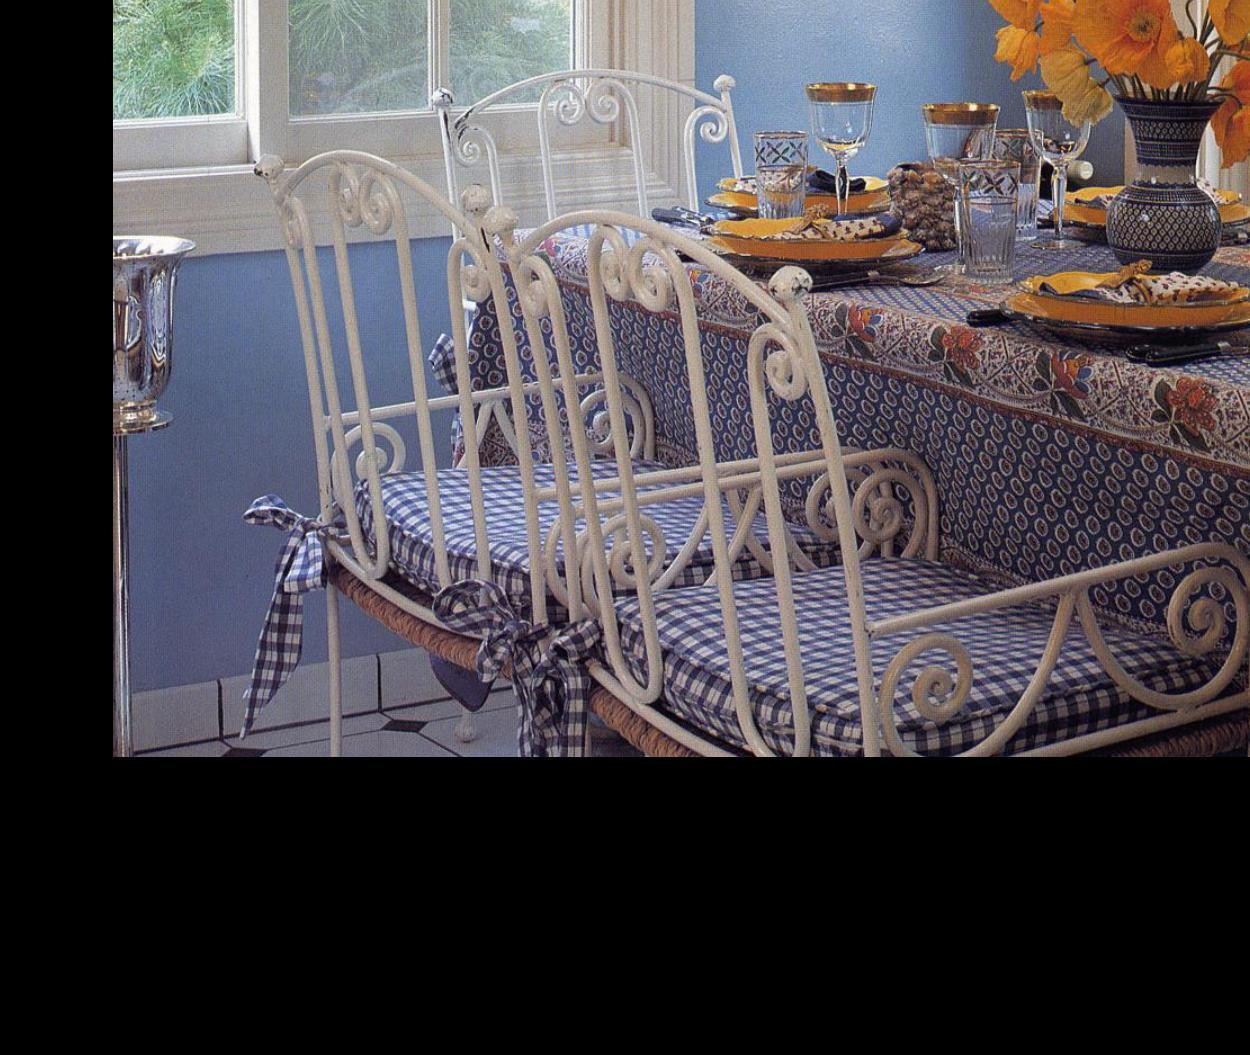Otro Obstaculo: (40, 171, 241, 823)
